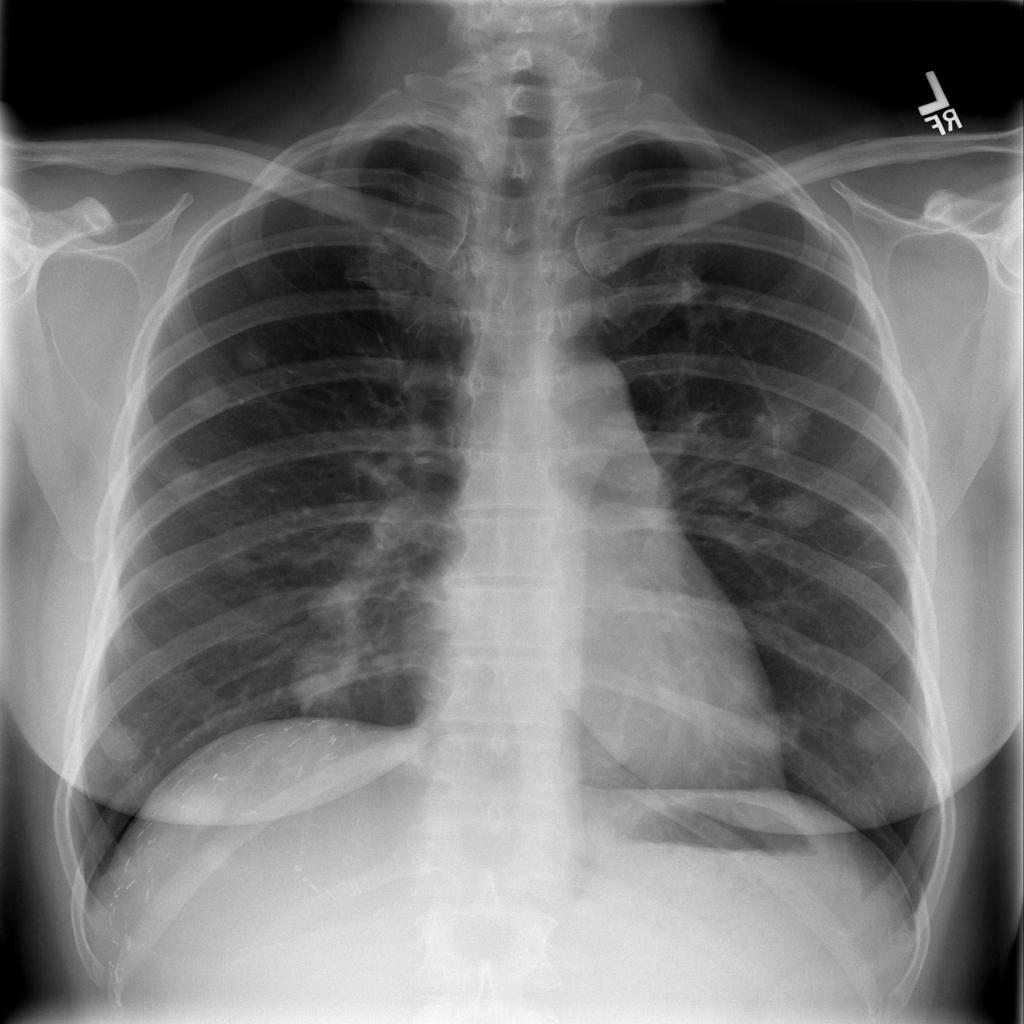nodule: (268, 624, 378, 726), (740, 383, 824, 462), (731, 694, 815, 767), (162, 359, 243, 430), (841, 693, 917, 768), (82, 708, 159, 777), (755, 478, 838, 541), (213, 323, 294, 385), (198, 462, 255, 508)
